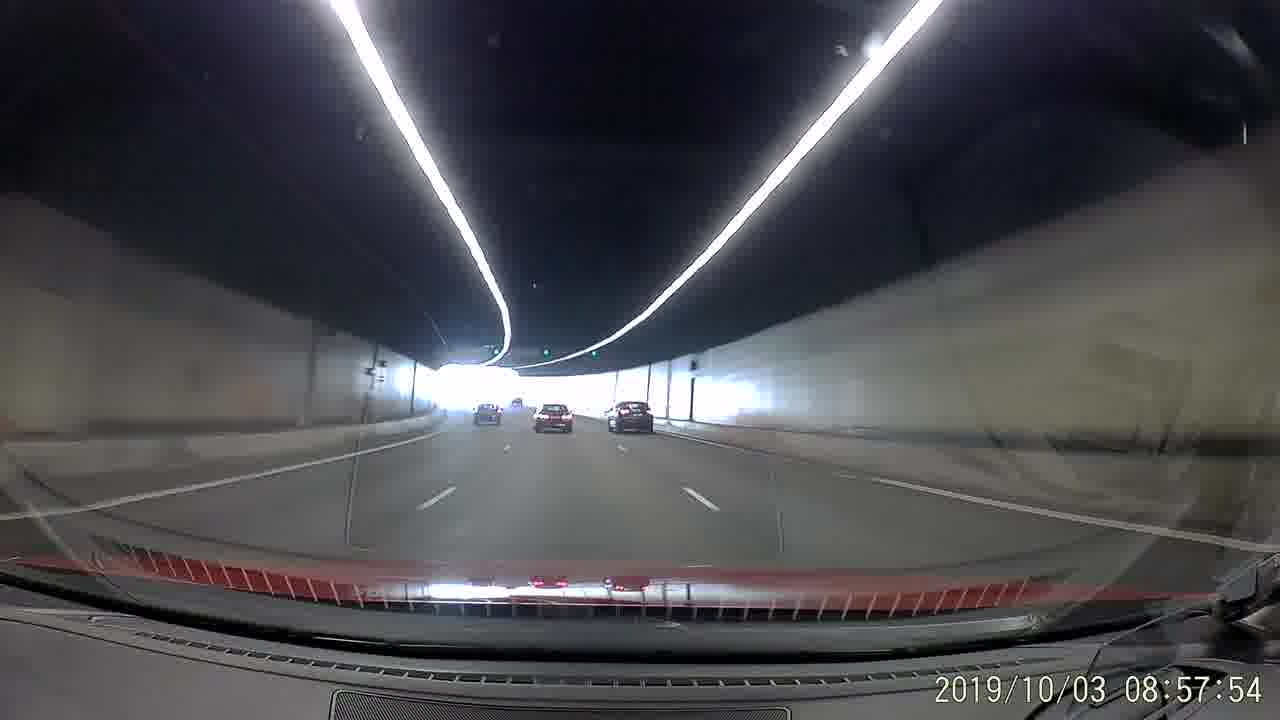car: (604, 401, 653, 436), (531, 401, 574, 435), (471, 401, 501, 424)
